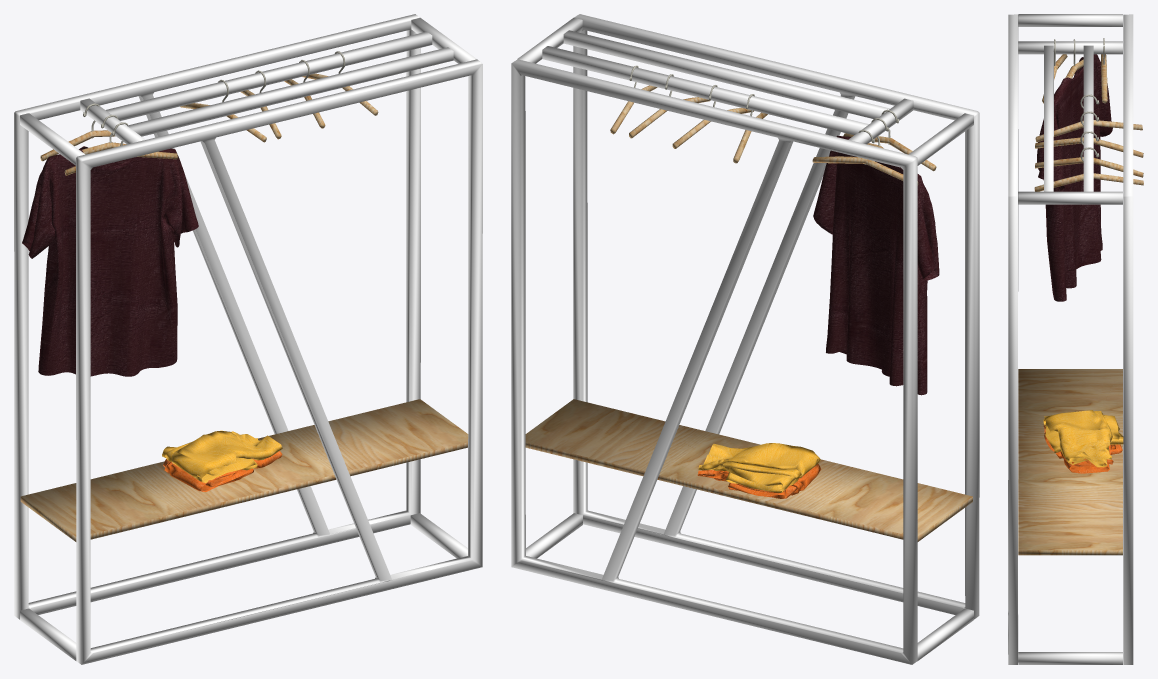
The model's file is movable_guestroom_hanger.gltf.
3 views of the same model, side by side, from view 1: azimuth 30°, elevation 25°; view 2: azimuth 150°, elevation 25°; view 3: azimuth 270°, elevation 25° (orthographic). The views are drawn at different scales.
Visible parts, largest first — view 1: GuestroomHanger; view 2: GuestroomHanger; view 3: GuestroomHanger.
Part boxes in pixels (x1,y1,x2,y2): GuestroomHanger: (14,14,482,664); GuestroomHanger: (511,14,979,664); GuestroomHanger: (1008,14,1143,664).
Size of the model in its own units: 1.2 by 1.43 by 0.3713.
Materials: 6 (4 with a texture image).
